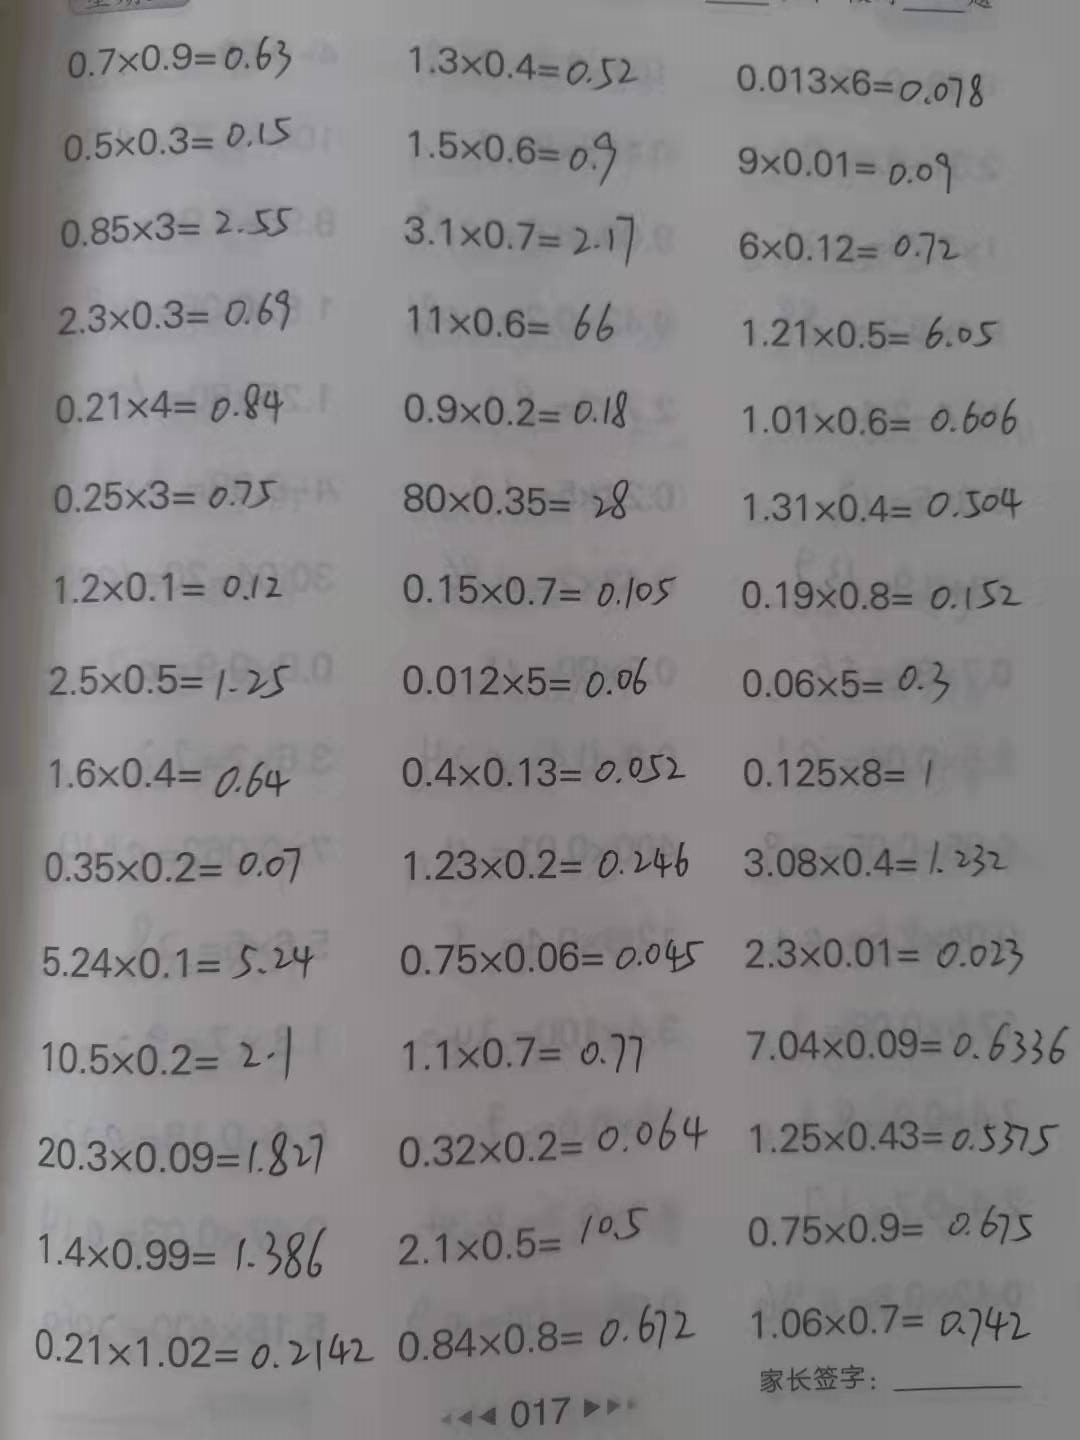equation: (393, 1101, 718, 1176), (28, 1314, 387, 1380), (391, 1299, 704, 1365), (387, 1200, 653, 1277), (25, 1117, 331, 1183), (737, 1202, 1071, 1261), (395, 554, 691, 619), (390, 836, 706, 895), (54, 192, 317, 261), (395, 202, 646, 273), (27, 1028, 324, 1089), (739, 1294, 1043, 1352), (723, 836, 1031, 892), (736, 1019, 1069, 1071), (31, 1223, 343, 1279), (736, 925, 1047, 981), (744, 1110, 1058, 1164), (727, 52, 999, 115), (735, 134, 967, 206), (36, 373, 296, 437), (393, 647, 664, 708), (33, 933, 324, 989), (52, 107, 297, 172), (735, 564, 1029, 618), (393, 31, 643, 94), (388, 745, 697, 796), (44, 283, 299, 345), (393, 933, 711, 982), (42, 746, 299, 806), (726, 305, 1013, 358), (736, 389, 1029, 441), (52, 35, 307, 94), (736, 477, 1033, 527), (405, 118, 626, 185), (396, 1028, 653, 1085), (34, 842, 317, 893), (391, 379, 646, 435), (731, 218, 968, 278), (36, 461, 282, 519), (382, 472, 646, 525), (734, 653, 954, 713), (47, 654, 297, 704), (396, 290, 628, 344), (729, 746, 950, 799), (37, 565, 292, 608)
